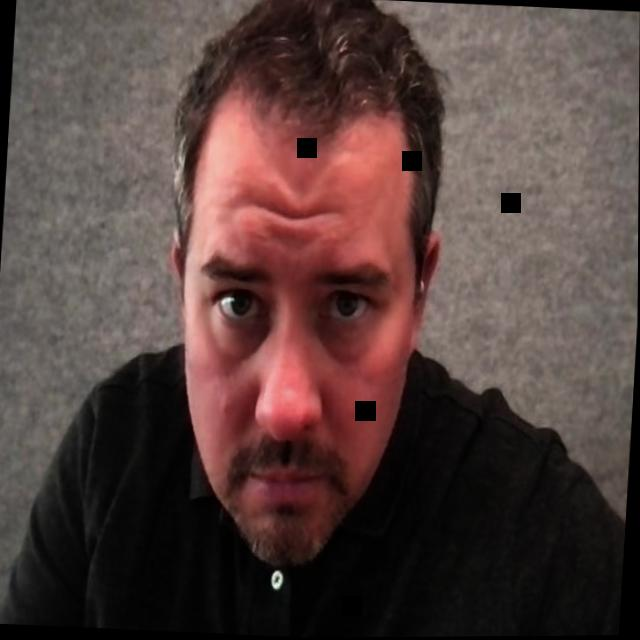NO-Mask: (146, 0, 454, 582)
